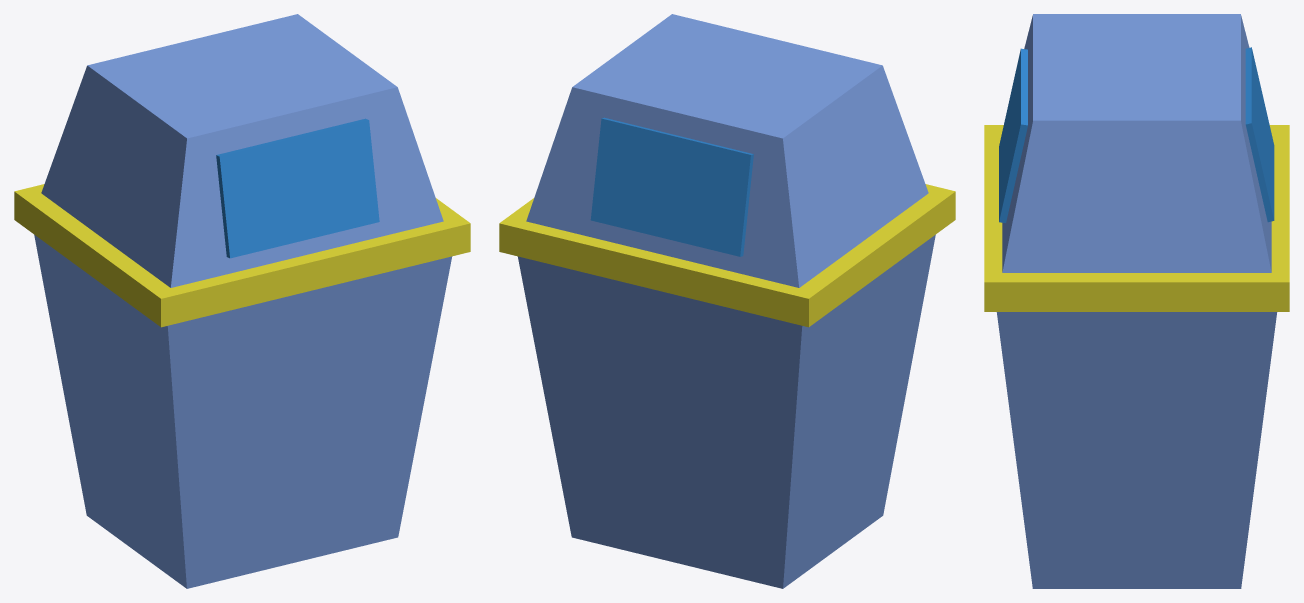
Rendered from trashbin.fbx.
3 renders of one model, left to right at view 1: azimuth 30°, elevation 25°; view 2: azimuth 150°, elevation 25°; view 3: azimuth 270°, elevation 25°, orthographic. The views are drawn at different scales.
Visible parts, largest first — view 1: Cube; view 2: Cube; view 3: Cube.
Boxes of the visible parts, left/top/right/bottom form: Cube: left=14, top=14, right=470, bottom=588; Cube: left=499, top=14, right=955, bottom=588; Cube: left=984, top=14, right=1289, bottom=588.
Size of the model in its own units: 212 by 295 by 174.
